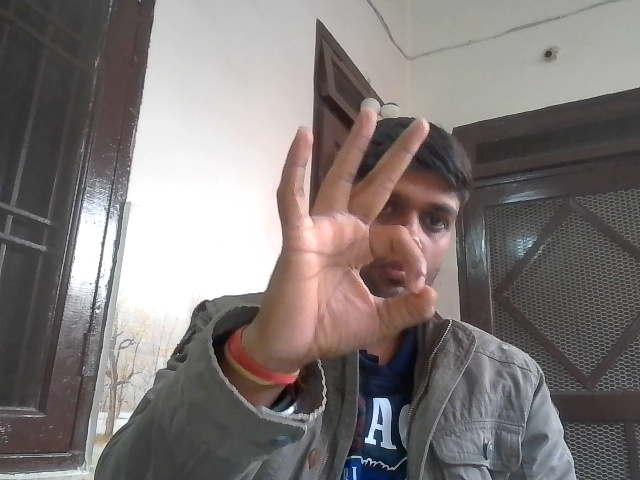Good: (258, 98, 452, 369)
